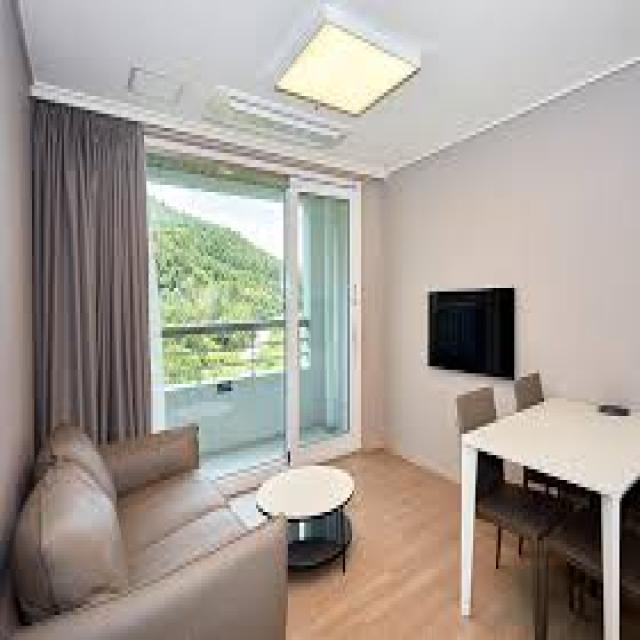Sofa: (3, 415, 289, 640)
Table: (464, 391, 640, 640), (258, 459, 362, 579)
tv: (424, 286, 518, 377)
window: (31, 106, 366, 405)
